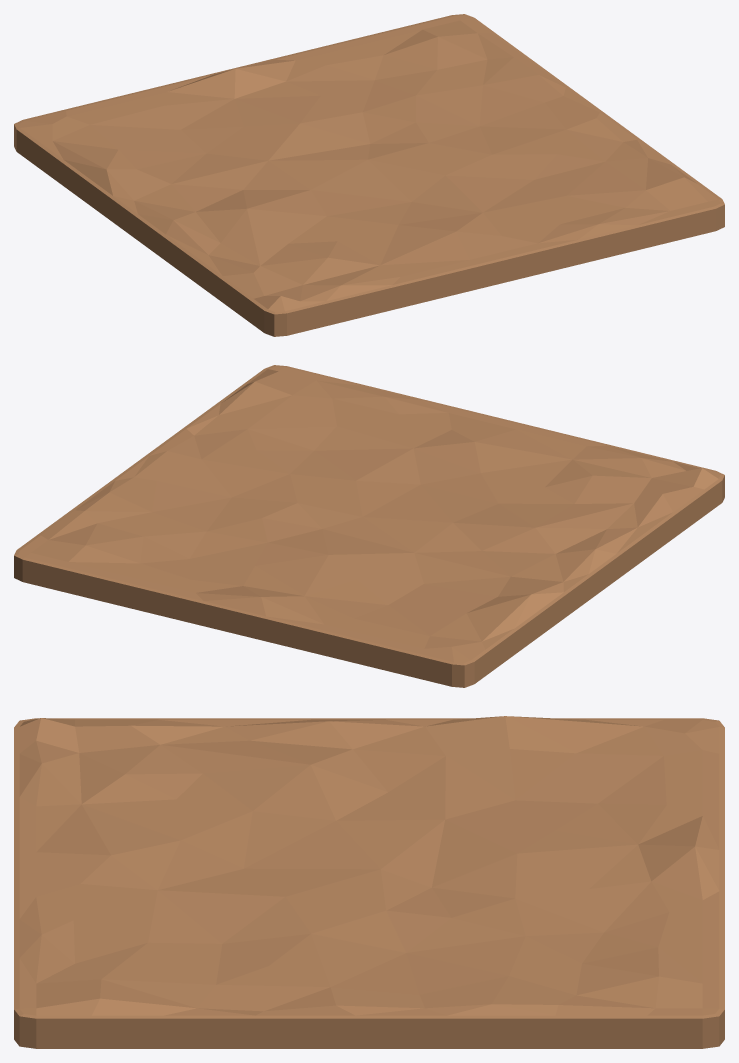
Rendered from floor.fbx.
3 renders of one model, top to bottom at view 1: azimuth 30°, elevation 25°; view 2: azimuth 150°, elevation 25°; view 3: azimuth 270°, elevation 25°, orthographic. The views are drawn at different scales.
Parts seen in each view (by area): view 1: floor; view 2: floor; view 3: floor.
Part boxes in pixels (bbox=[...]): floor: bbox=[14, 14, 724, 336]; floor: bbox=[14, 365, 724, 687]; floor: bbox=[14, 716, 724, 1048].
Bounding box in the file's own units: 2000 × 139 × 2000.
